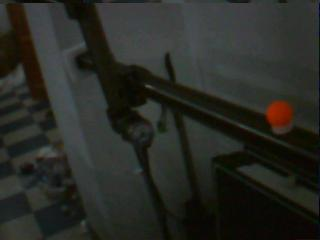oball: (265, 99, 293, 128)
